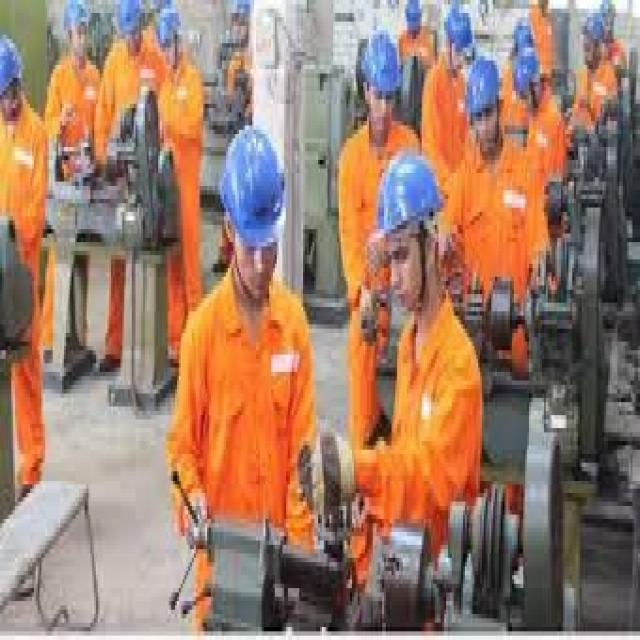Reflective-Jacket: (169, 272, 322, 571), (375, 298, 491, 550), (456, 134, 544, 376), (329, 117, 416, 337), (150, 52, 212, 199), (0, 104, 51, 264), (569, 52, 621, 143)
Safety-Helmet: (212, 112, 296, 264), (367, 147, 448, 259), (352, 17, 407, 108), (459, 48, 506, 126), (439, 0, 478, 61), (0, 26, 26, 108), (516, 52, 543, 112), (108, 0, 154, 35), (398, 0, 442, 35), (56, 0, 98, 35), (578, 4, 608, 52), (510, 16, 536, 53)
